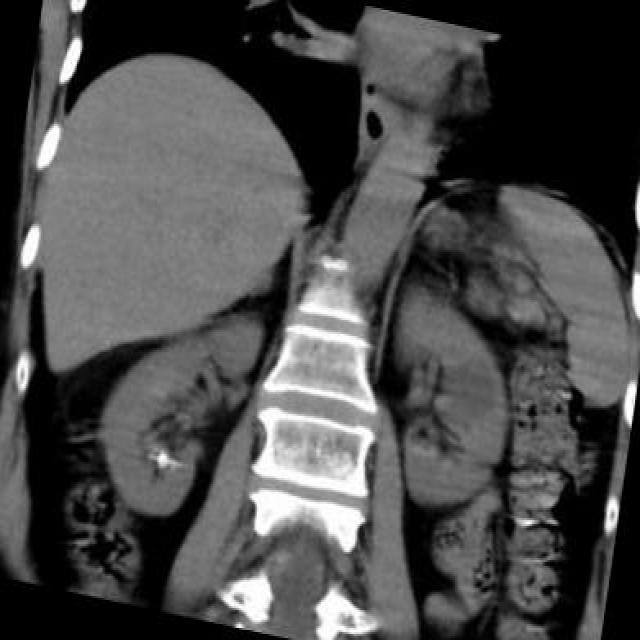Tas_Var: (152, 450, 169, 466)
